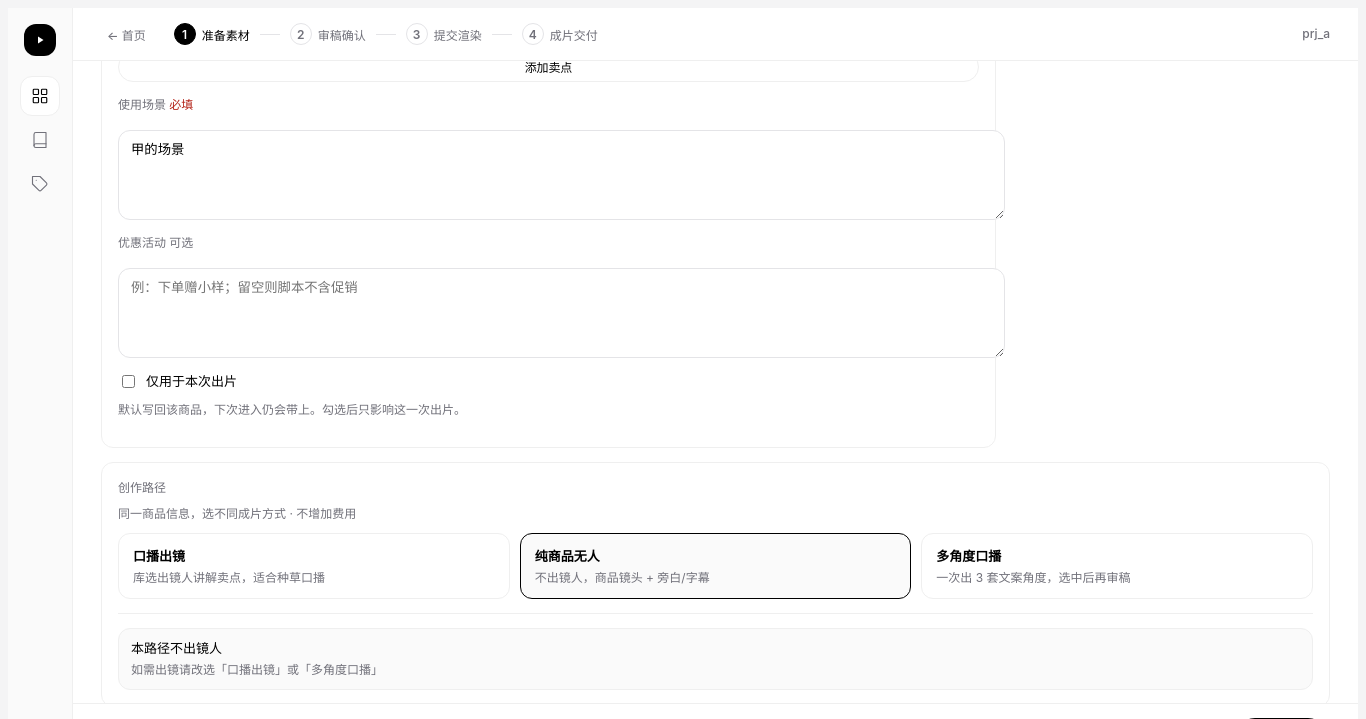
Test case: iter18 图片广告与工作室解耦 › 两件 SKU 的卖点跟着商品走，不串到另一件
(page scrolled)
Expected: the field showing "乙的卖点" is not shown
Click the checkbox labelled "仅用于本次出片" at (128, 382), box [122,375,135,388]
(page scrolled)
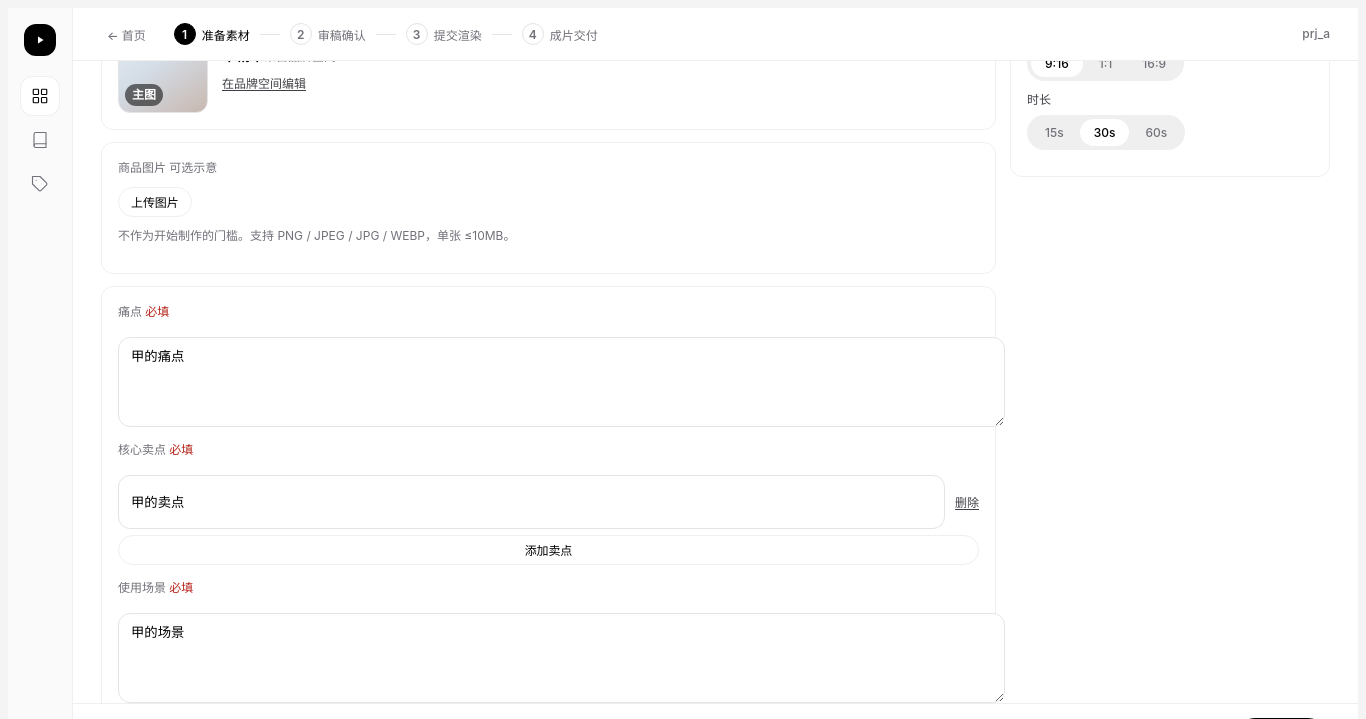
Replace the text in the text box labelled "痛点" with "只在这一次" at (562, 382), box [118,337,1005,427]
(page scrolled)
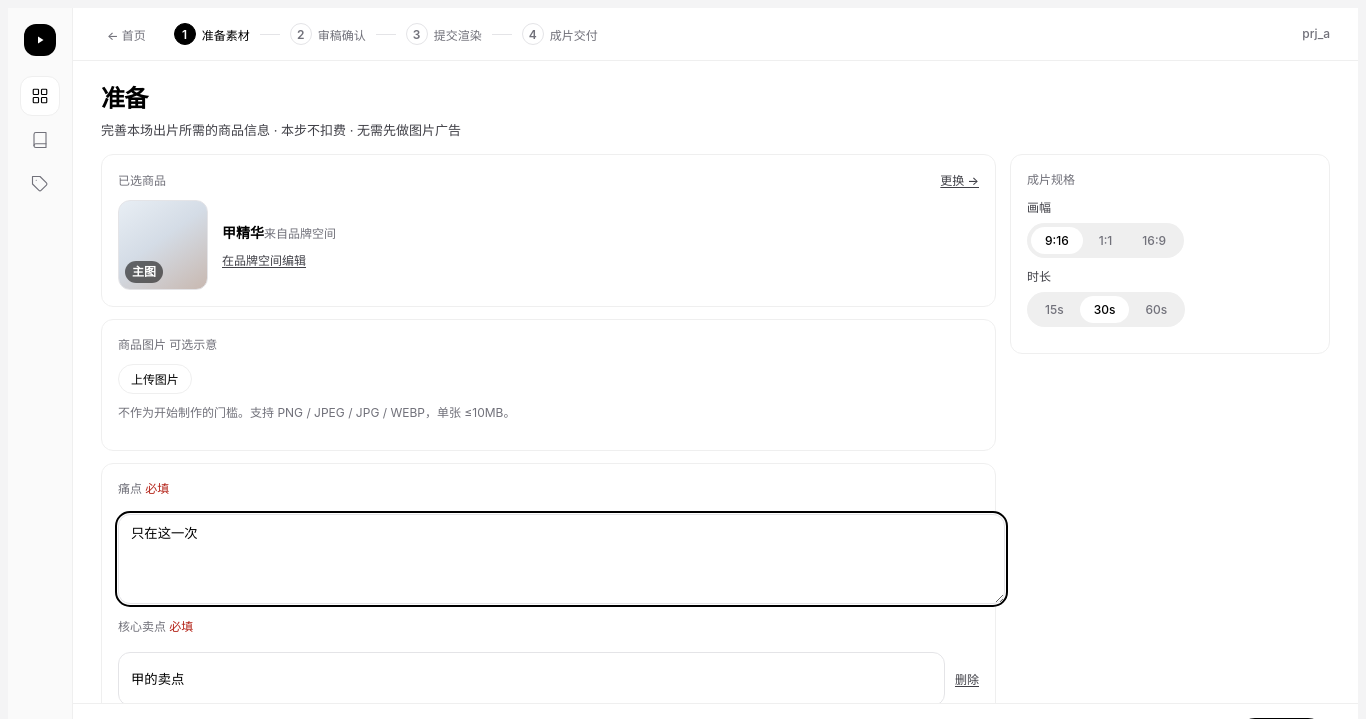
Click the button "更换 →" at (960, 179), box [940,171,979,188]
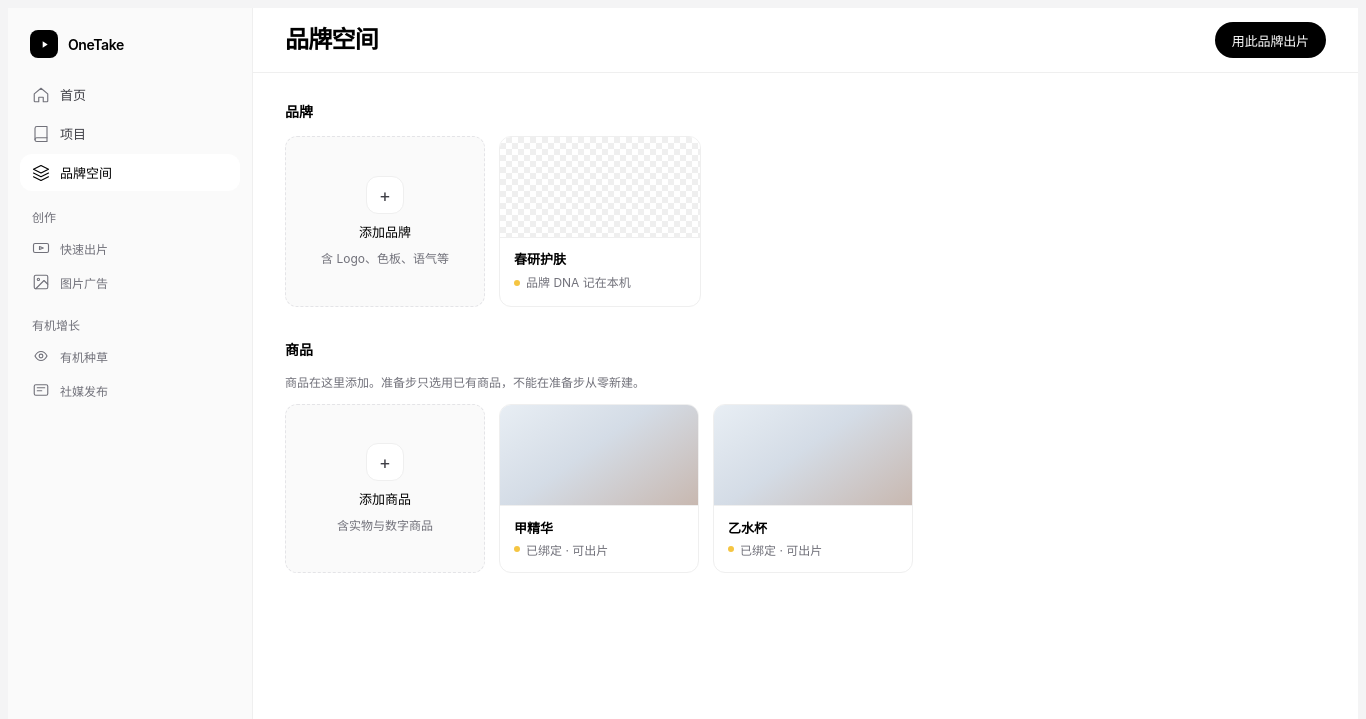
Now the heading "品牌空间" is shown, box [285,22,378,58]
Click the button "乙水杯 已绑定 · 可出片" at (813, 488), box [713,404,913,572]
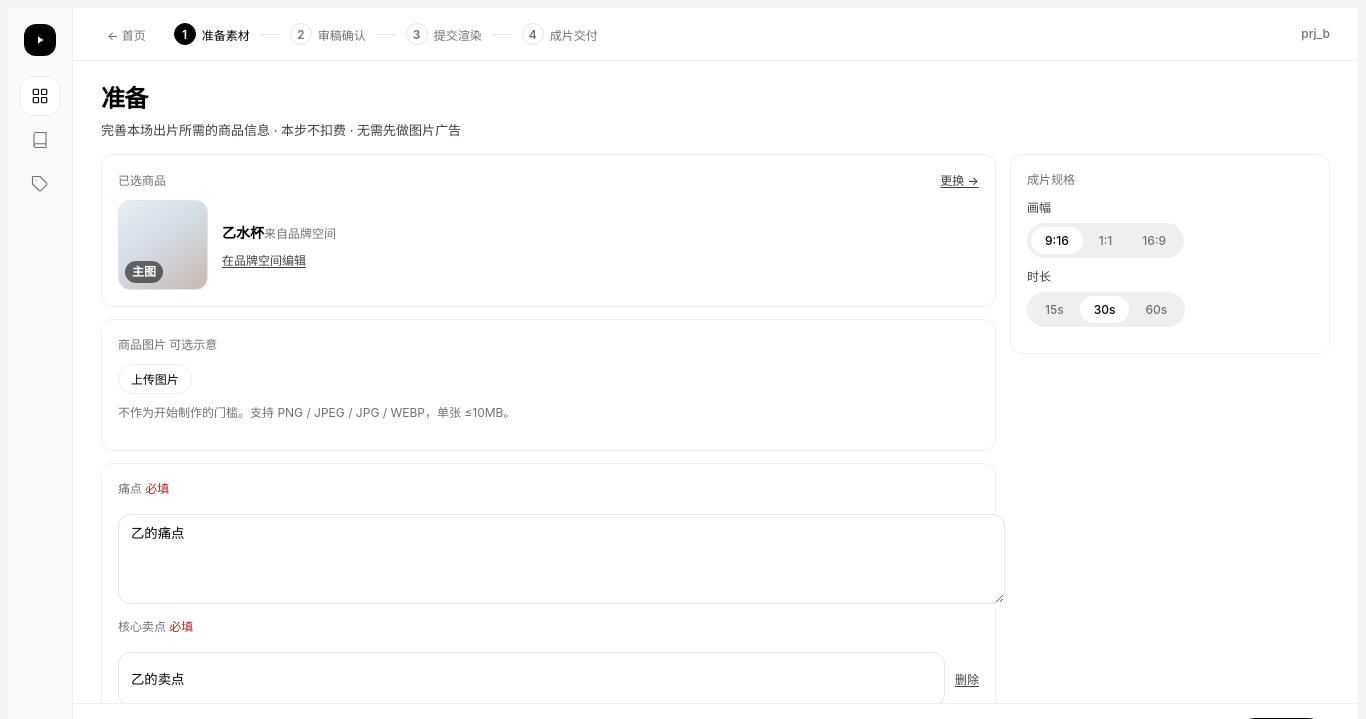
Expected: the field showing "只在这一次" is not shown
Now the text box labelled "痛点" holds "乙的痛点", box [118,514,1005,604]
Now the field named "卖点 1" holds "乙的卖点", box [118,652,945,703]
